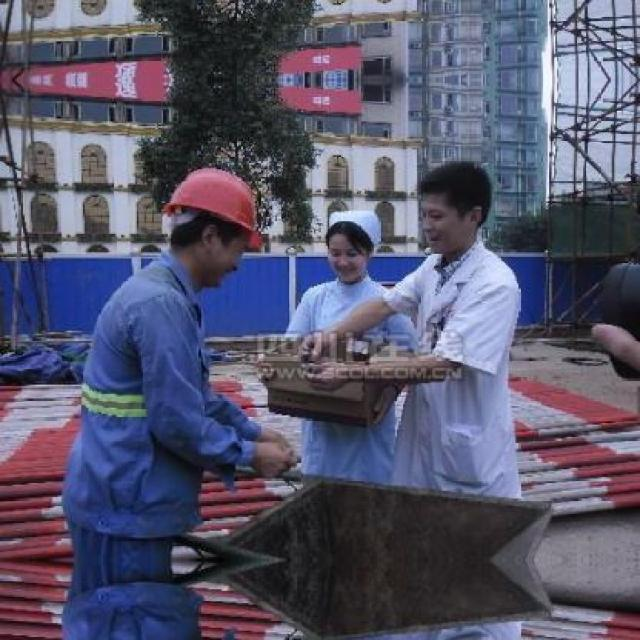helmet: (163, 164, 262, 290)
